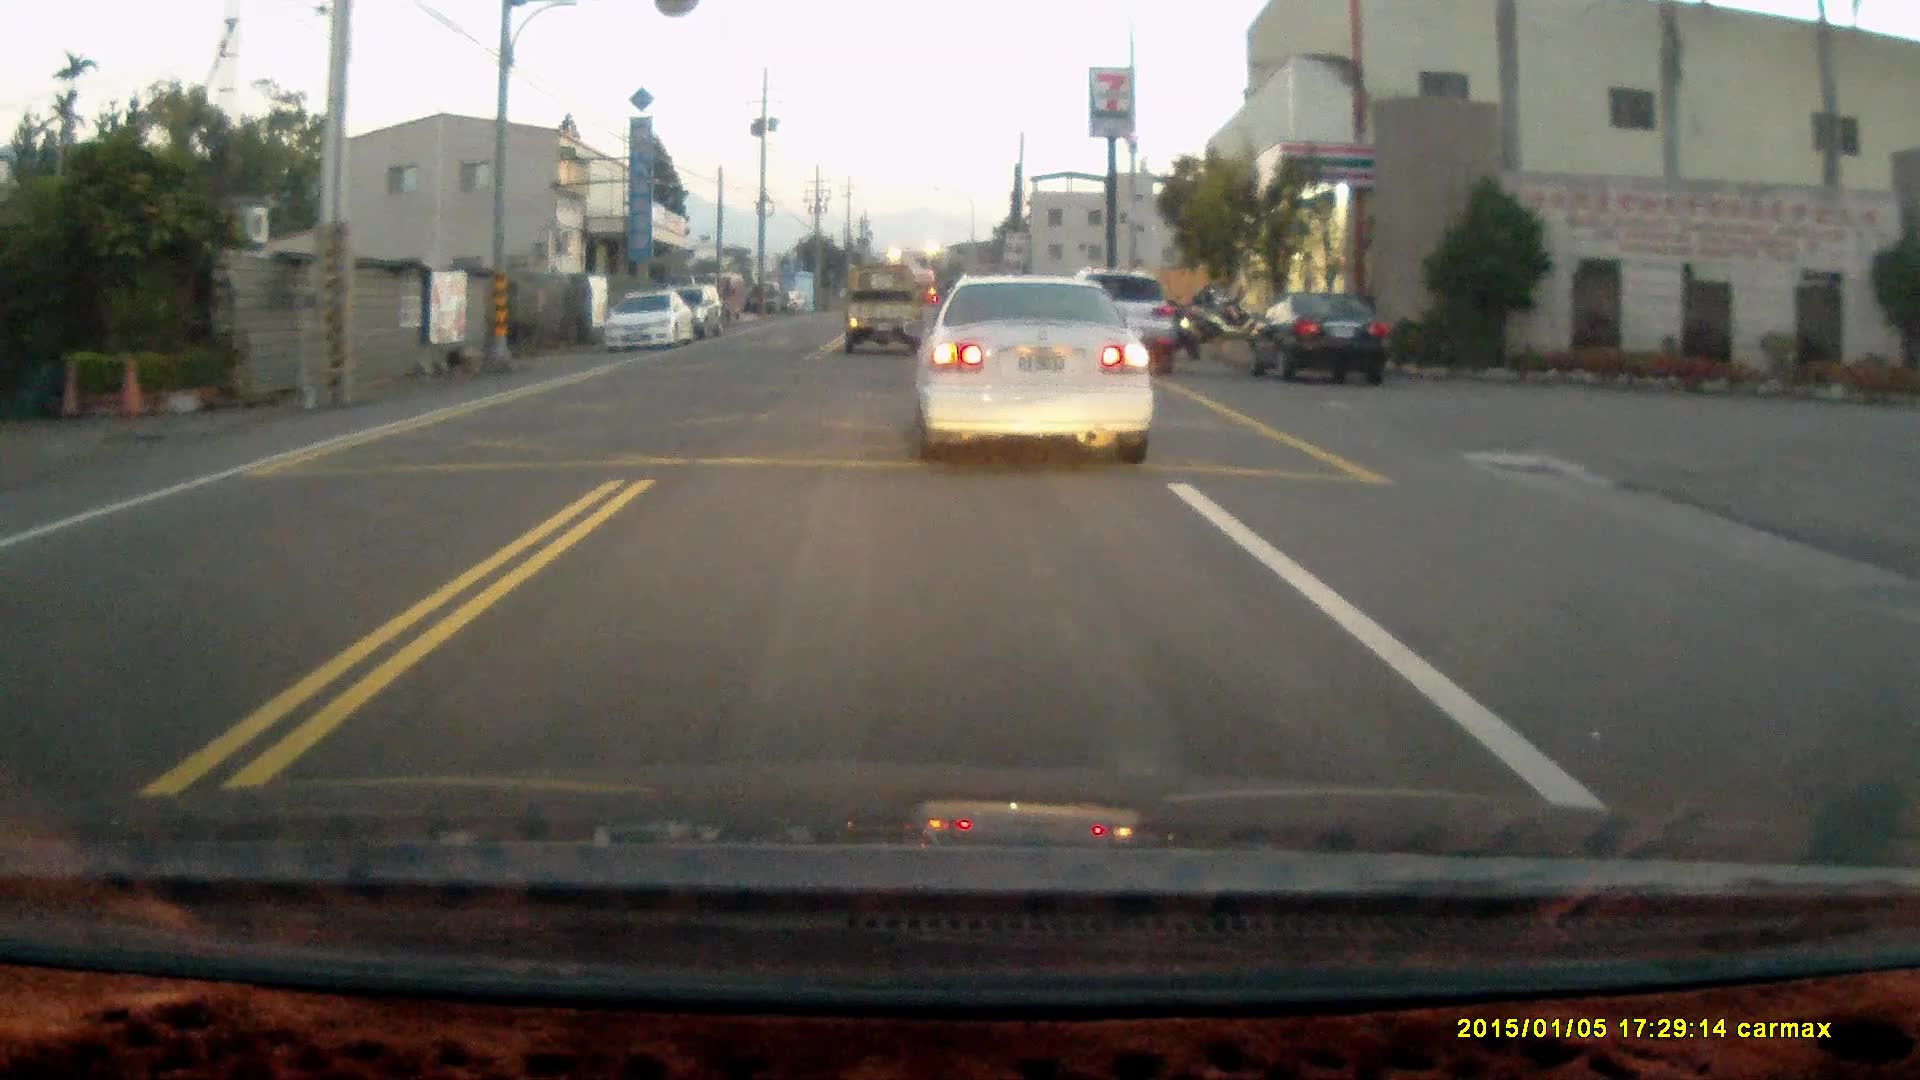vehicle: (915, 272, 1160, 465), (1241, 289, 1394, 386), (1060, 268, 1182, 373), (841, 265, 932, 356), (595, 287, 698, 353)
